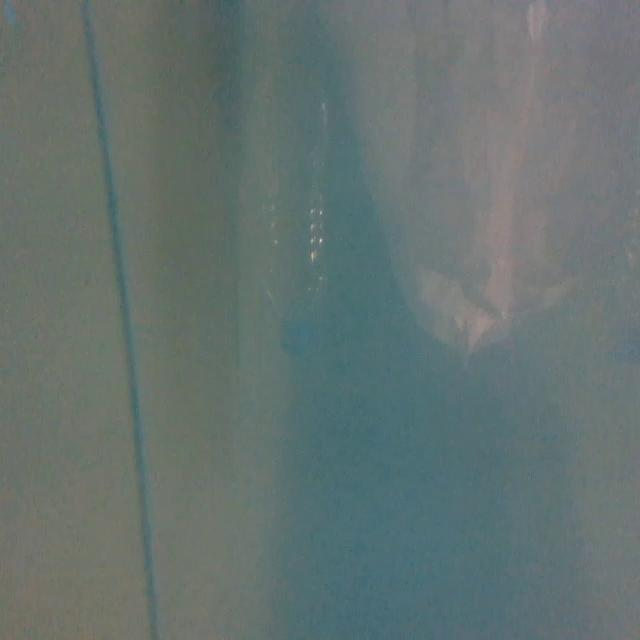plastic bags: (330, 6, 640, 367)
plastic bottle: (242, 55, 328, 360)
